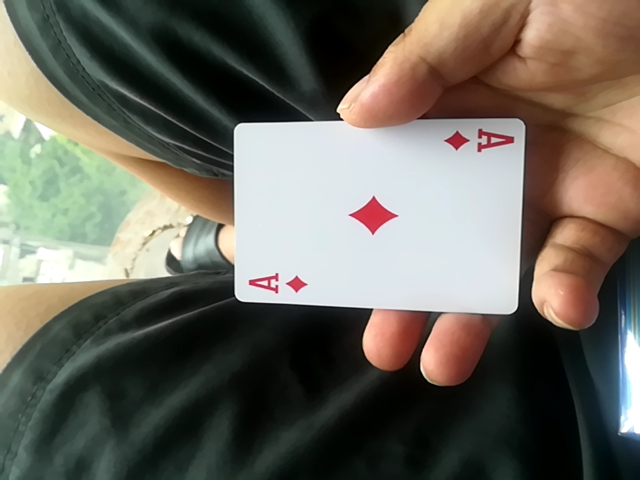fk a: (222, 110, 531, 319)
